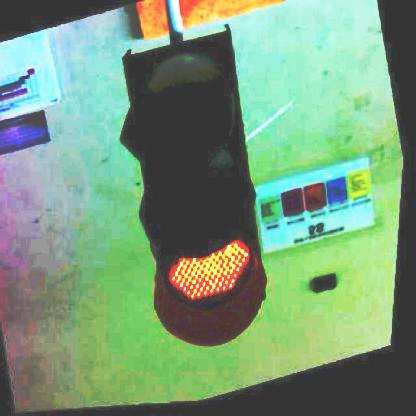Traffic Light -Red-: (95, 24, 303, 367)
